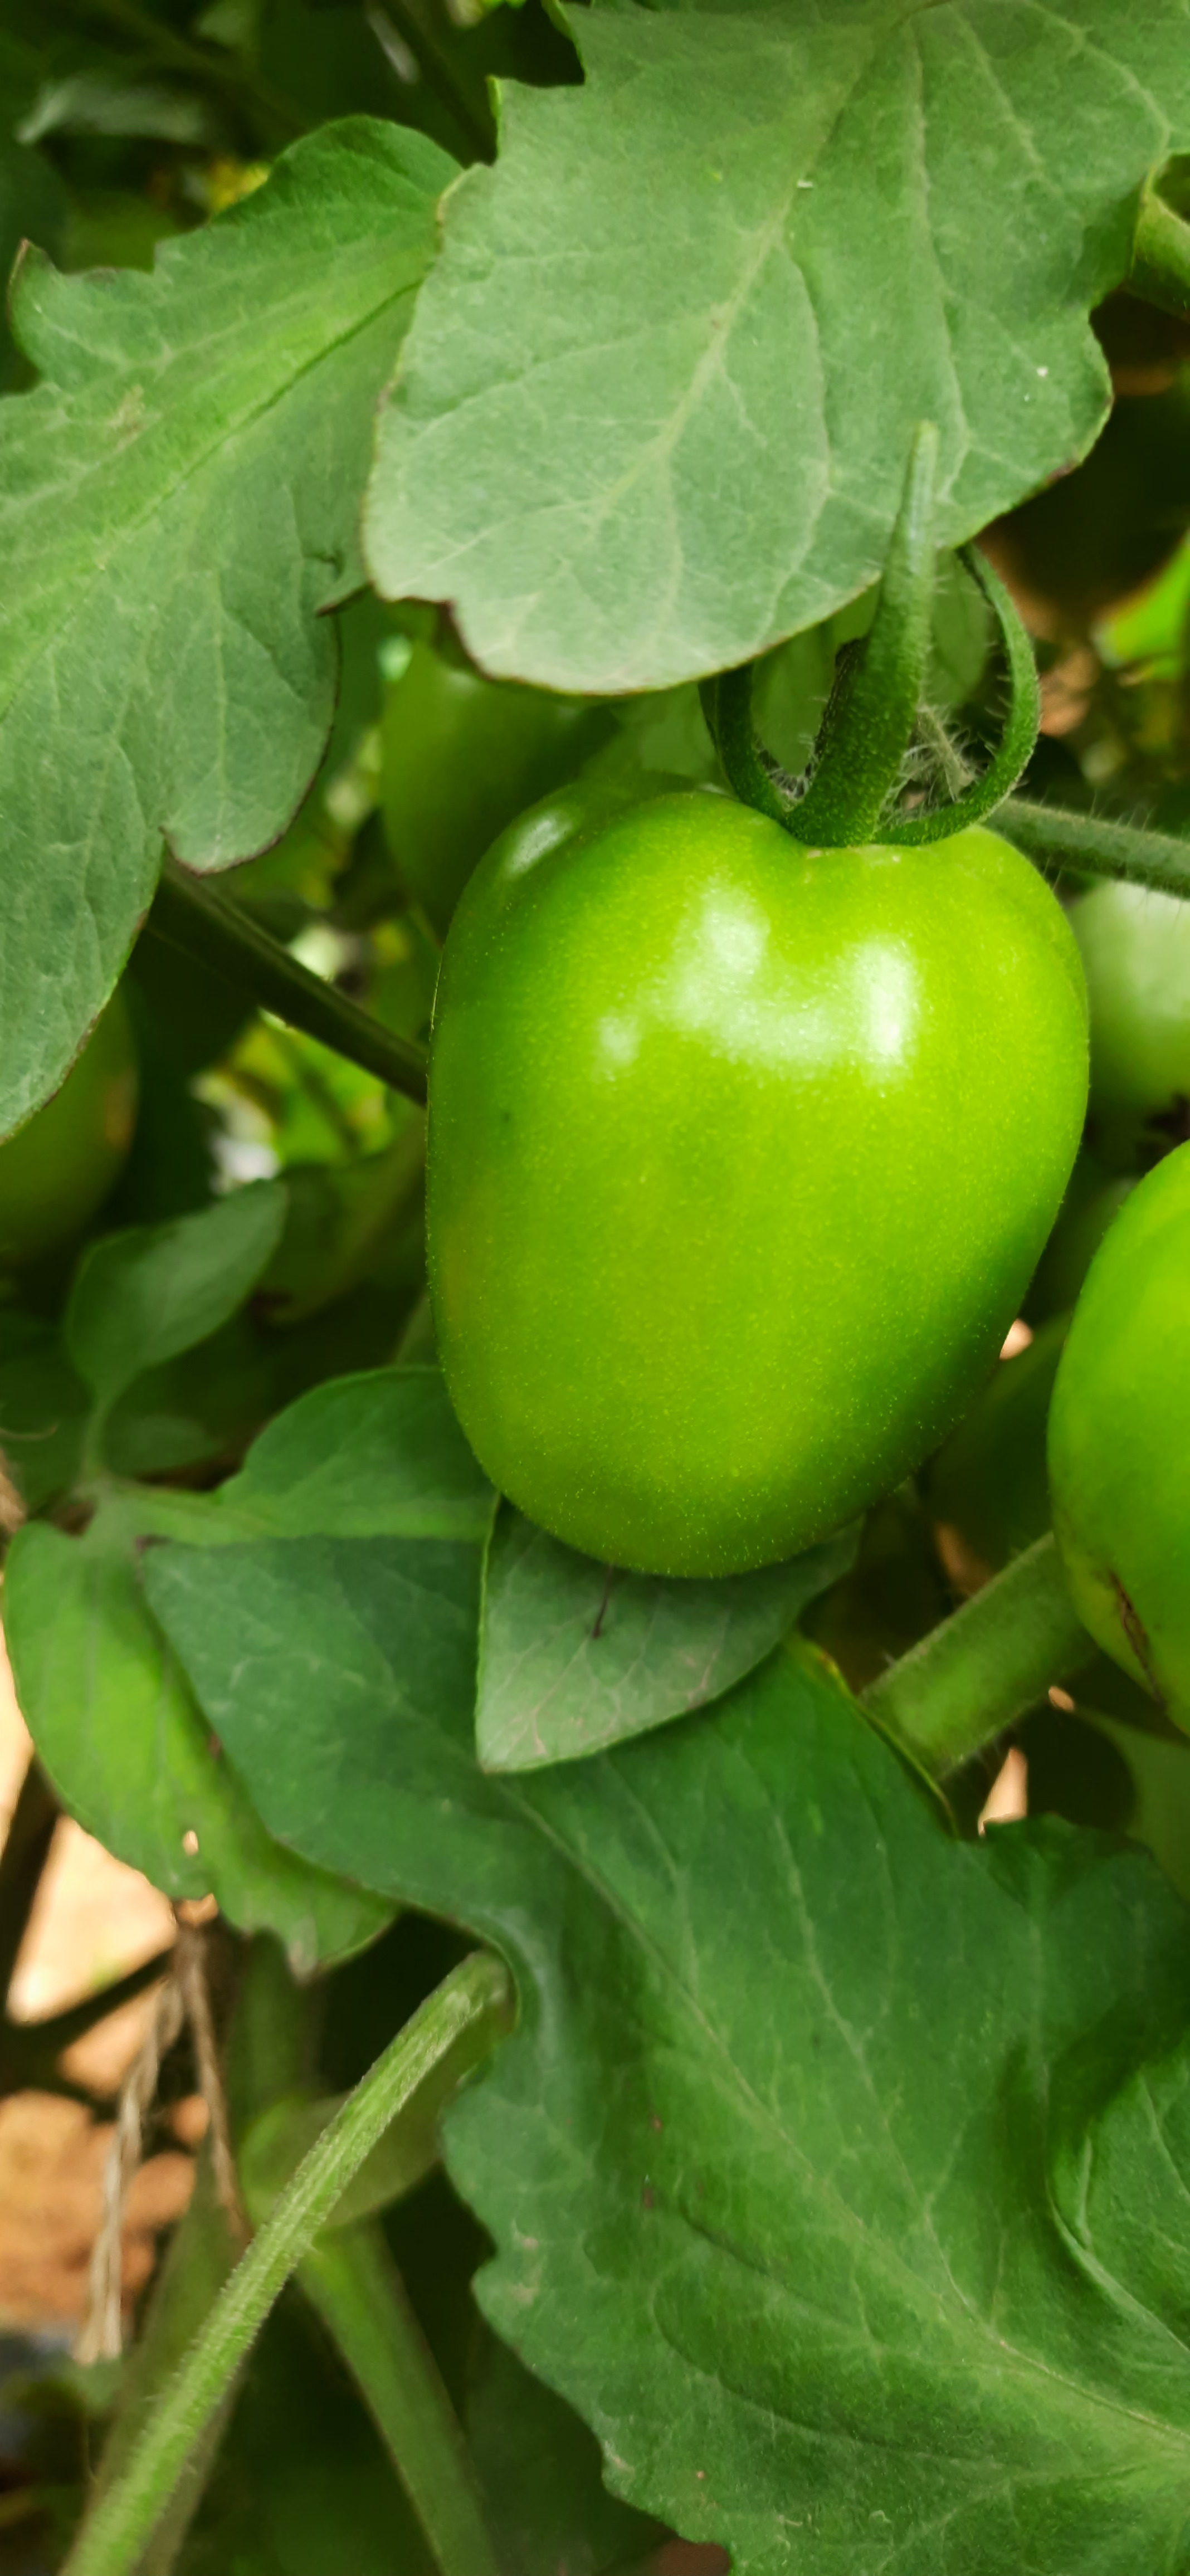raw_tomato: (436, 747, 1134, 1659)
